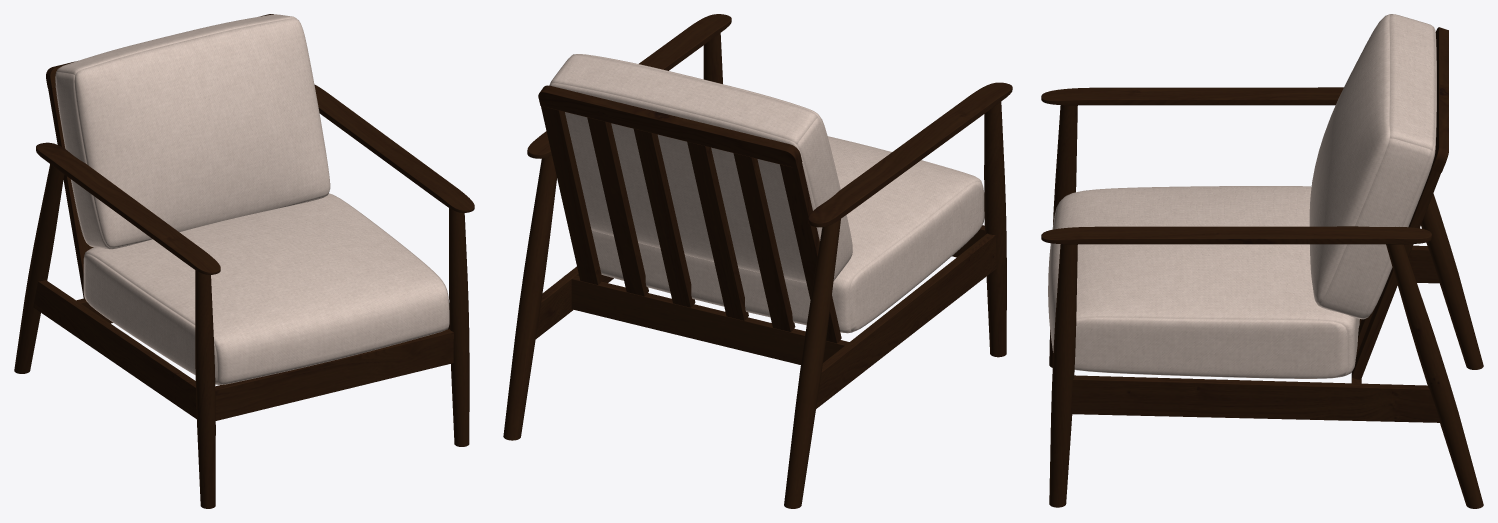
Rendered from chair_66_04.001.fbx.
The picture shows the model from 3 angles, left to right: view 1: azimuth 30°, elevation 25°; view 2: azimuth 150°, elevation 25°; view 3: azimuth 270°, elevation 25°; orthographic projection. The views are drawn at different scales.
Visible parts, largest first — view 1: chair_66_04.001; view 2: chair_66_04.001; view 3: chair_66_04.001.
Boxes of the visible parts, x1,y1,x2,y2 form: chair_66_04.001: [14, 14, 474, 508]; chair_66_04.001: [503, 14, 1012, 508]; chair_66_04.001: [1041, 14, 1483, 508].
Size of the model in its own units: 76.92 by 87.18 by 95.18.
Materials: 1 (1 with a texture image).
